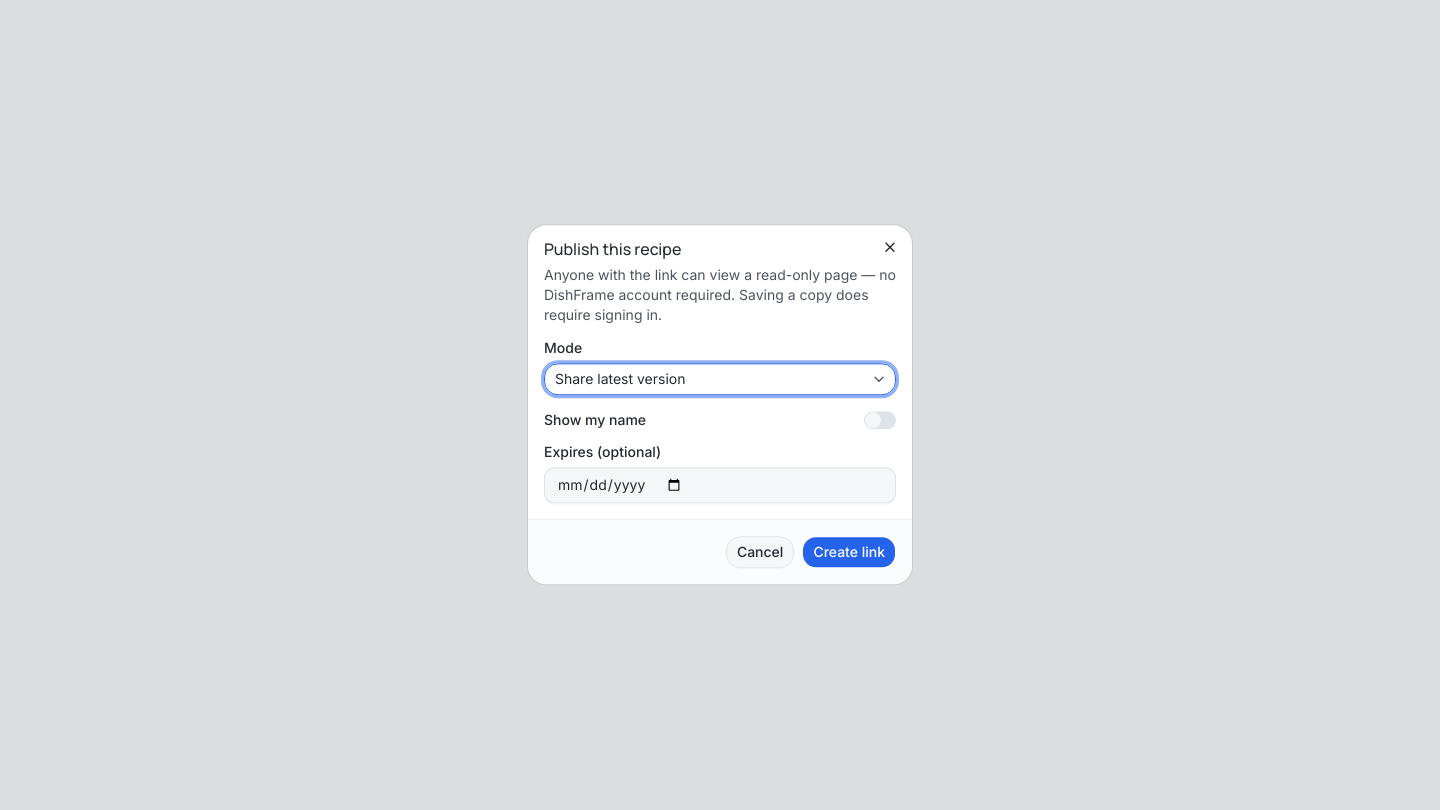
Test: ShareDialog (Publish) › on success, closes the modal and shows a persistent toast with the public URL — never the raw token
The width and height of the screenshot is (1440, 810).
Click the button "Create link" at point(849, 553), box [802,537,896,569]
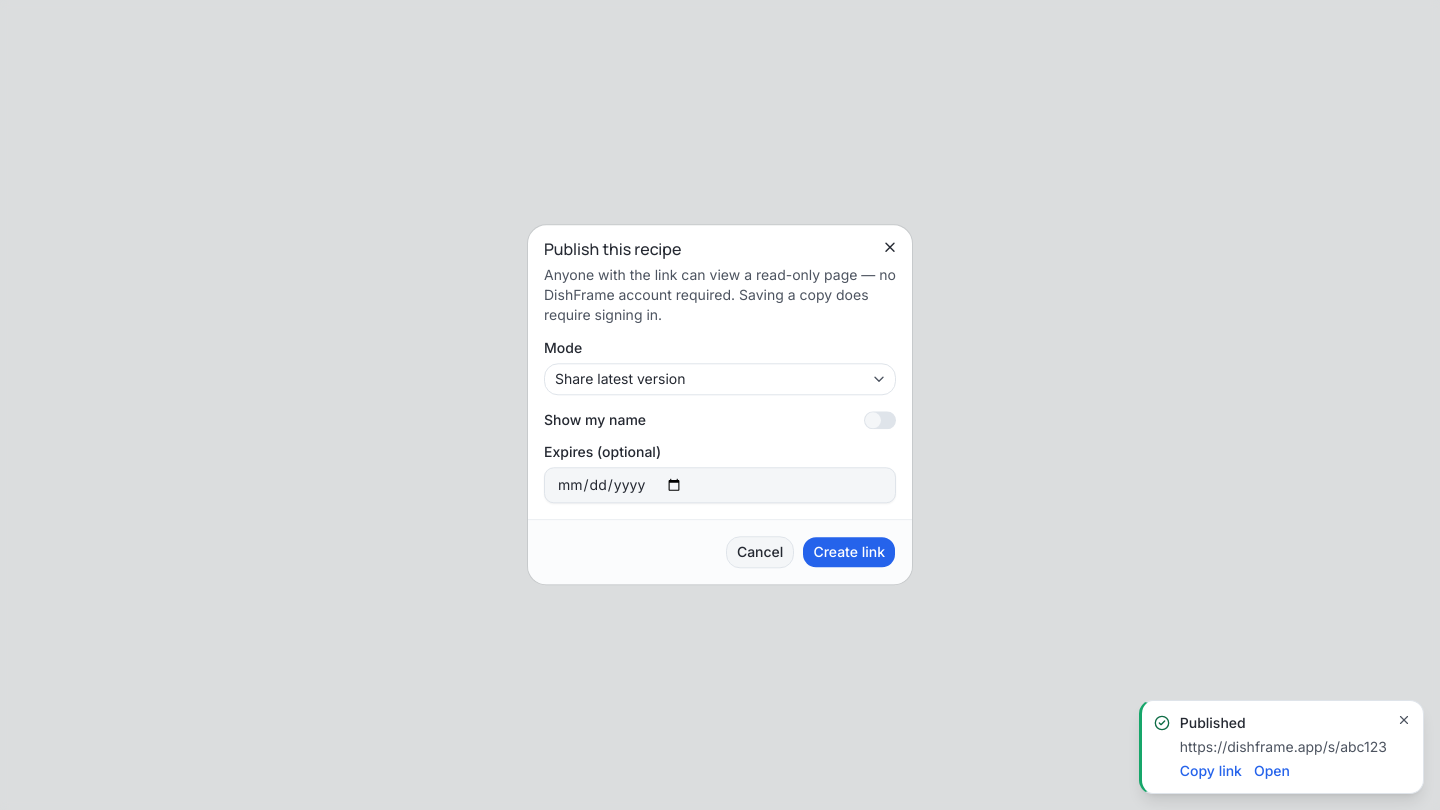
Expected: the text "Published" is shown, [1180,714,1246,731]
Expected: the text "https://dishframe.app/s/abc123" is shown, [1180,737,1387,757]
Expected: the button "Copy link" is shown, [1180,761,1242,781]
